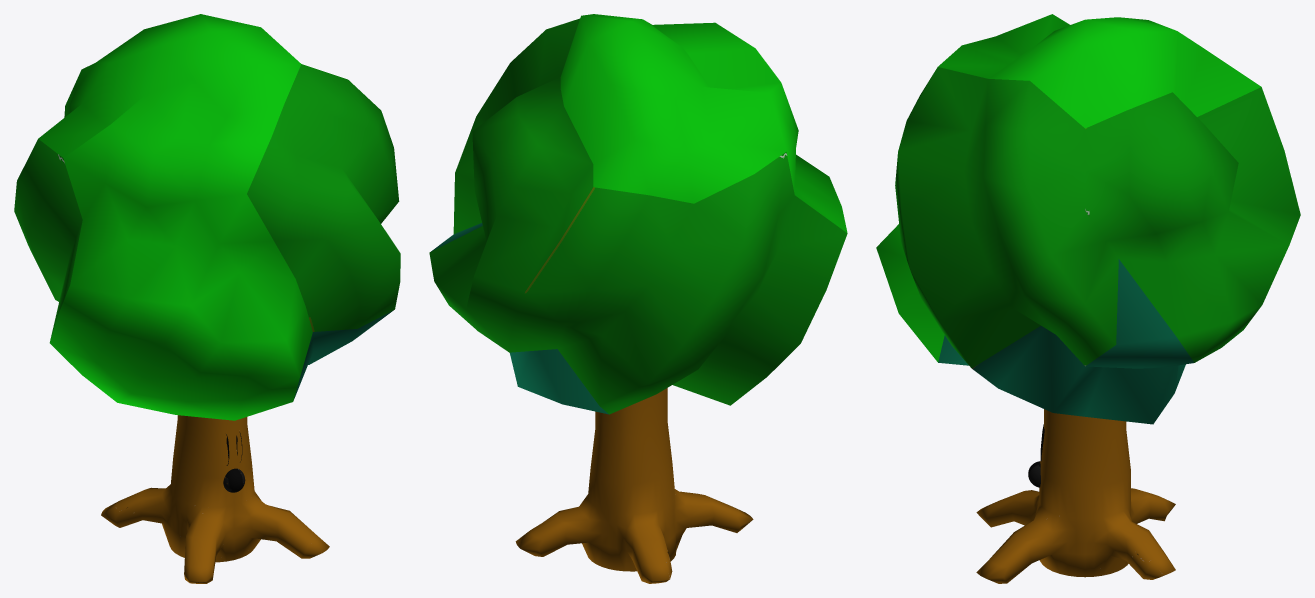
File: LadTreeA.fbx
3 views of the same model, side by side, from view 1: azimuth 30°, elevation 25°; view 2: azimuth 150°, elevation 25°; view 3: azimuth 270°, elevation 25° (orthographic). The views are drawn at different scales.
Parts seen in each view (by area): view 1: Leaves, TreeTrunk; view 2: Leaves, TreeTrunk; view 3: Leaves, TreeTrunk.
Boxes of the visible parts, box(x1,y1,x2,y2) form: Leaves: box(14, 14, 400, 420); TreeTrunk: box(101, 415, 329, 583); Leaves: box(429, 14, 847, 414); TreeTrunk: box(515, 388, 753, 583); Leaves: box(876, 14, 1300, 424); TreeTrunk: box(976, 409, 1175, 583).
Size of the model in its own units: 1878 by 2660 by 1902.
